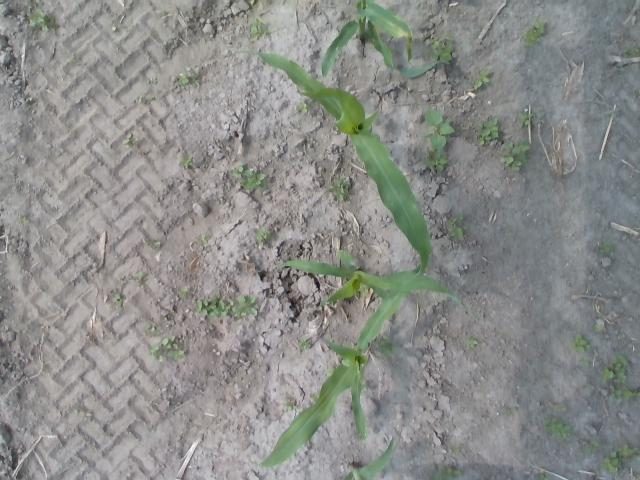Maize: (238, 48, 432, 278), (260, 292, 412, 468), (321, 0, 450, 78), (272, 250, 460, 302), (344, 438, 394, 480)
Weeds: (423, 107, 455, 148), (603, 446, 640, 472), (501, 140, 530, 170), (196, 298, 234, 318), (150, 336, 183, 358), (602, 356, 629, 382), (476, 118, 499, 145), (29, 9, 58, 30), (524, 20, 546, 46), (431, 35, 453, 60), (544, 416, 570, 436), (235, 294, 257, 317), (329, 178, 352, 200), (447, 213, 465, 240), (242, 170, 266, 190), (571, 334, 589, 353), (474, 68, 489, 90), (428, 152, 446, 168), (435, 468, 460, 478), (256, 226, 270, 242), (142, 322, 160, 334), (252, 18, 264, 36), (608, 384, 620, 400), (600, 242, 616, 252), (520, 114, 532, 127), (622, 390, 638, 399), (114, 294, 124, 308), (296, 101, 308, 112), (380, 342, 393, 352), (178, 286, 188, 298), (588, 440, 598, 452), (182, 154, 192, 166), (122, 134, 133, 144), (234, 167, 244, 177), (197, 235, 208, 244), (286, 401, 296, 410), (298, 340, 308, 349), (468, 338, 478, 347), (138, 272, 149, 280), (19, 215, 29, 223), (594, 324, 604, 331), (180, 74, 188, 82), (192, 78, 199, 86), (579, 358, 588, 364), (538, 475, 547, 480), (154, 241, 162, 246)
